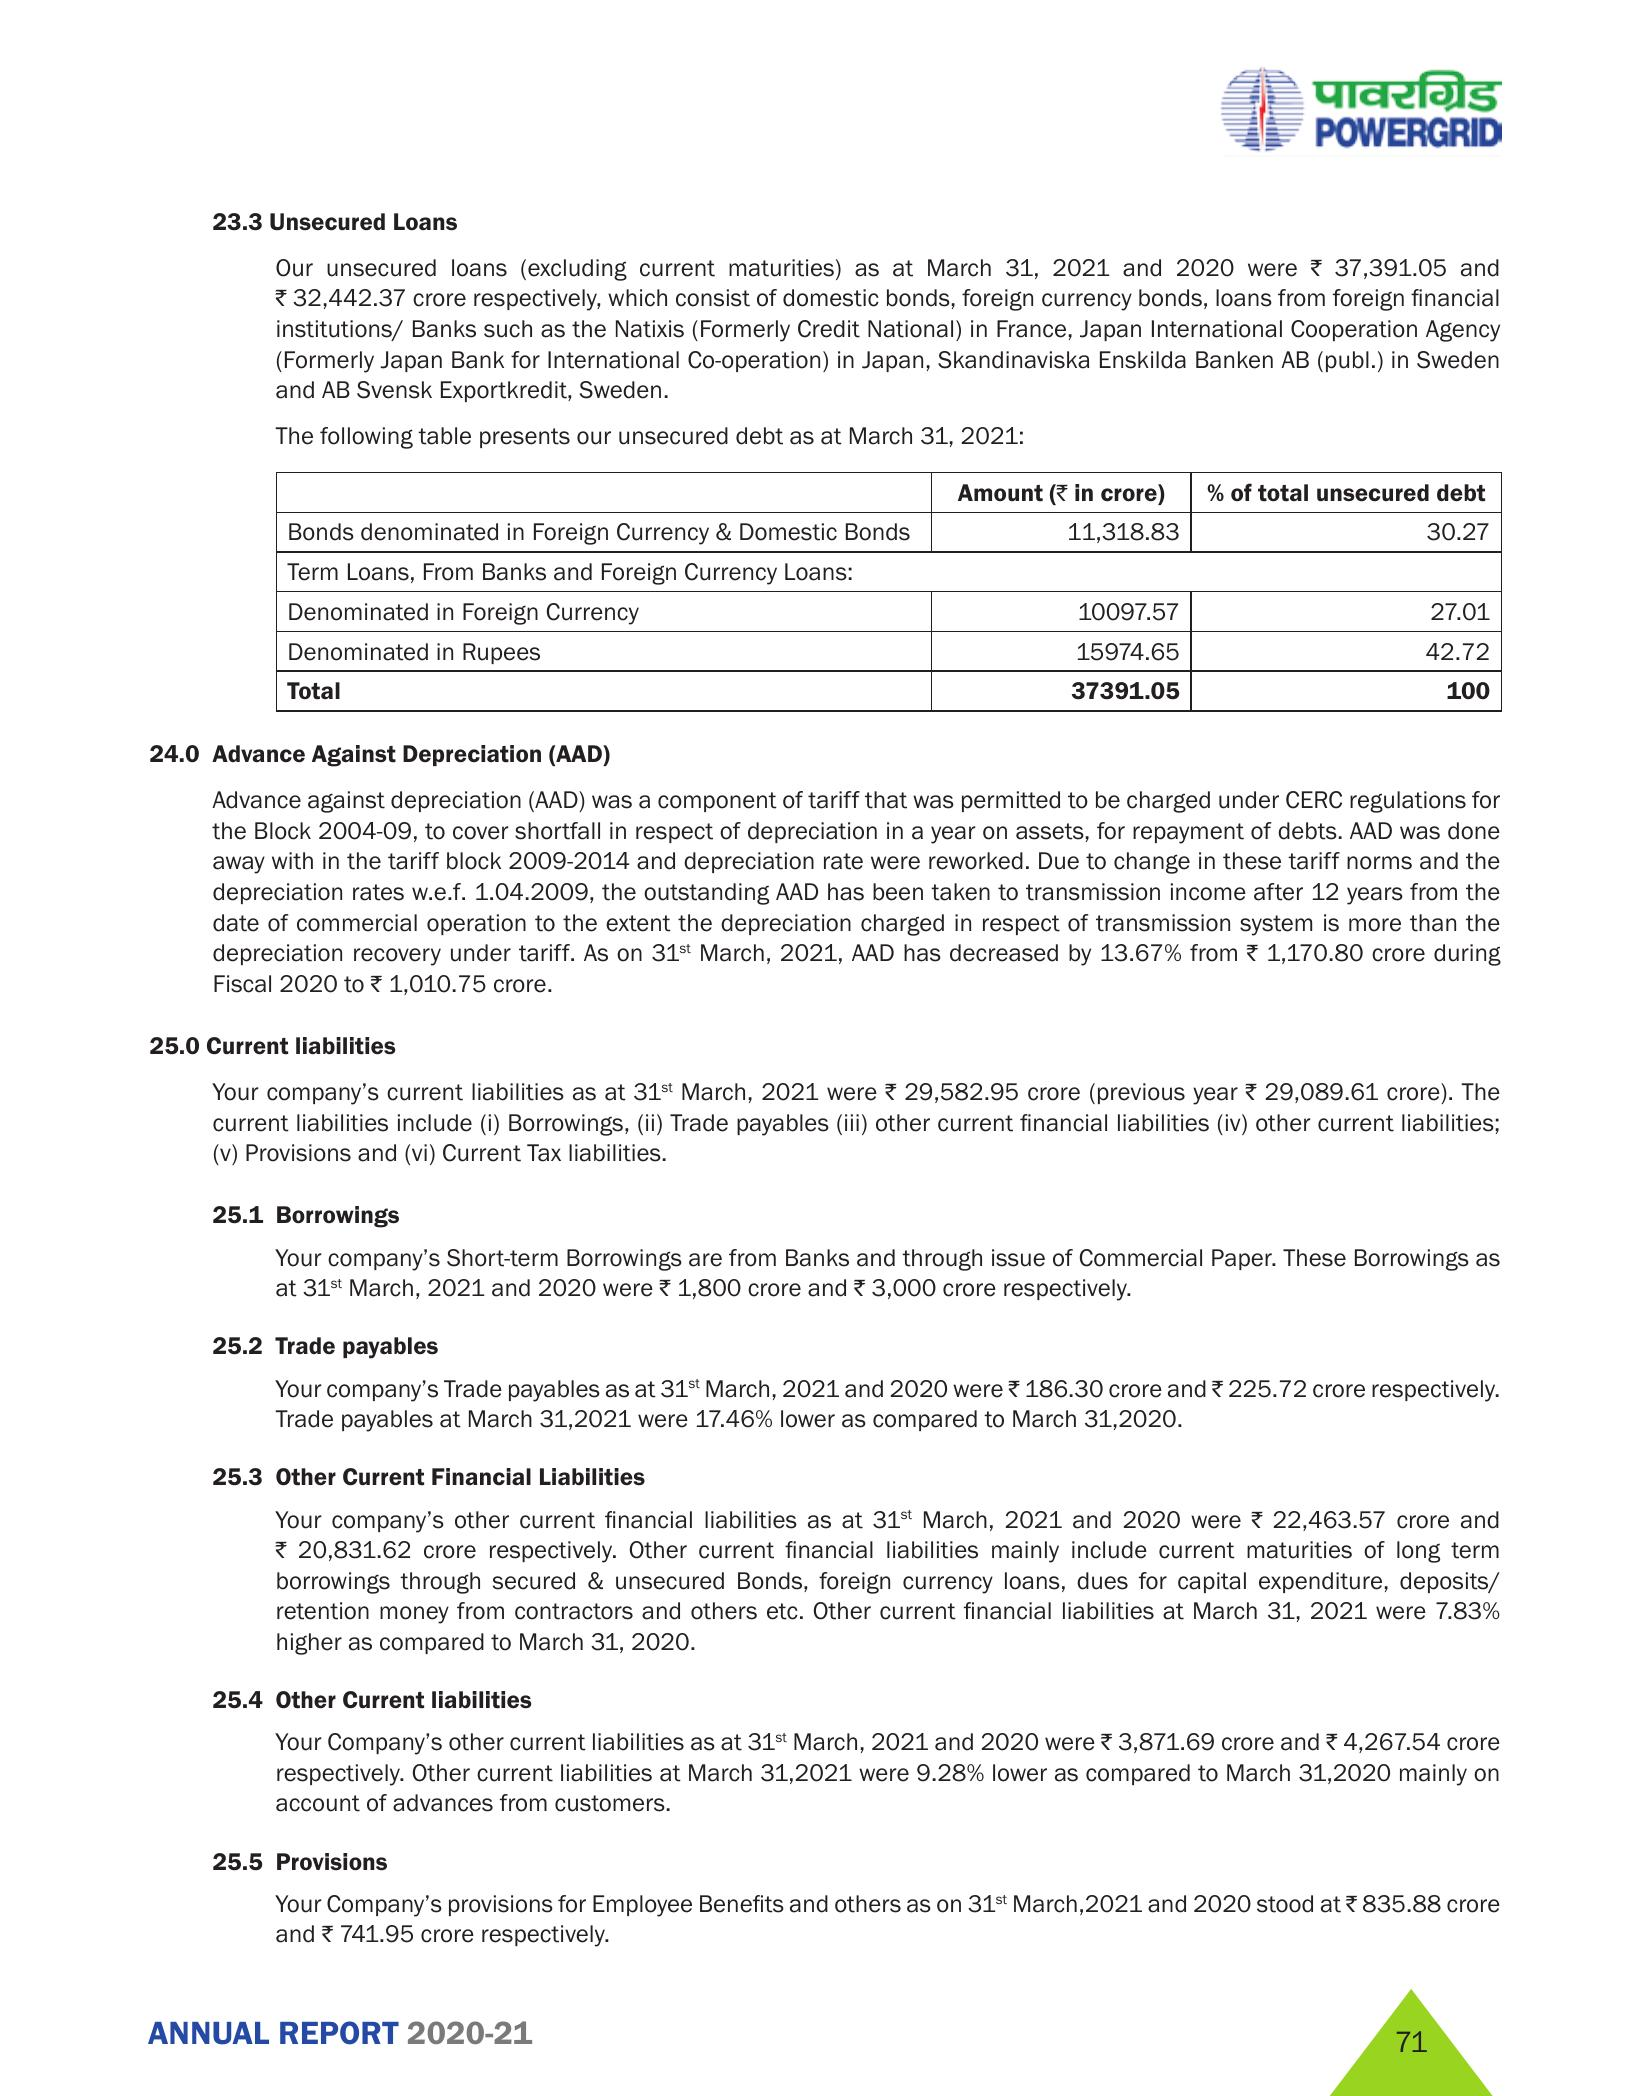Footer: (0, 1968, 1650, 2096)
Header: (0, 0, 1650, 175)
Table: (219, 449, 1548, 715)
